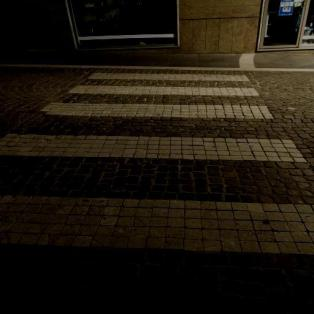Paso de Cebra: (0, 131, 314, 276), (34, 85, 278, 124)
